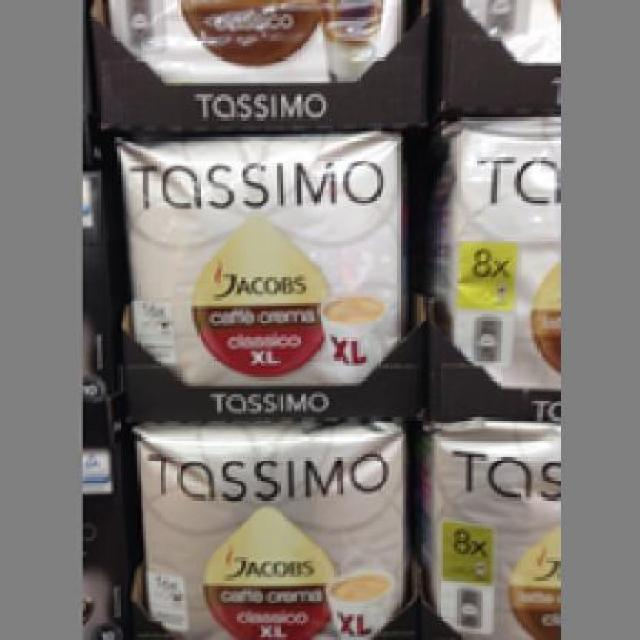Coffee: (112, 130, 408, 387), (130, 417, 404, 637)
